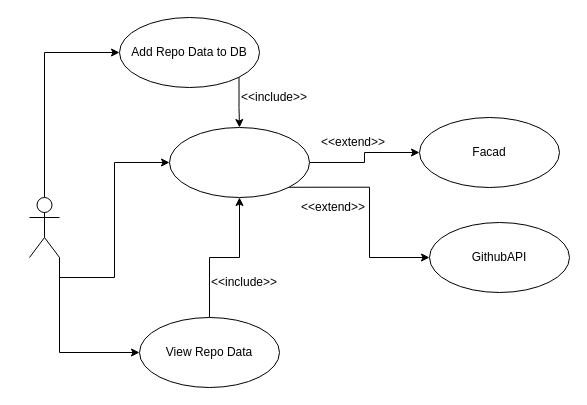
The diagram is 587 pixels wide and 405 high, and some of its shapes have lost their labels. The shapes that lost their labels are listed below. From the top down, each one's box as (x1, y1, x2, y2) in pixels, then its label:
(168, 126, 310, 198): Categorize Repo Data
(28, 196, 60, 258): Developer
